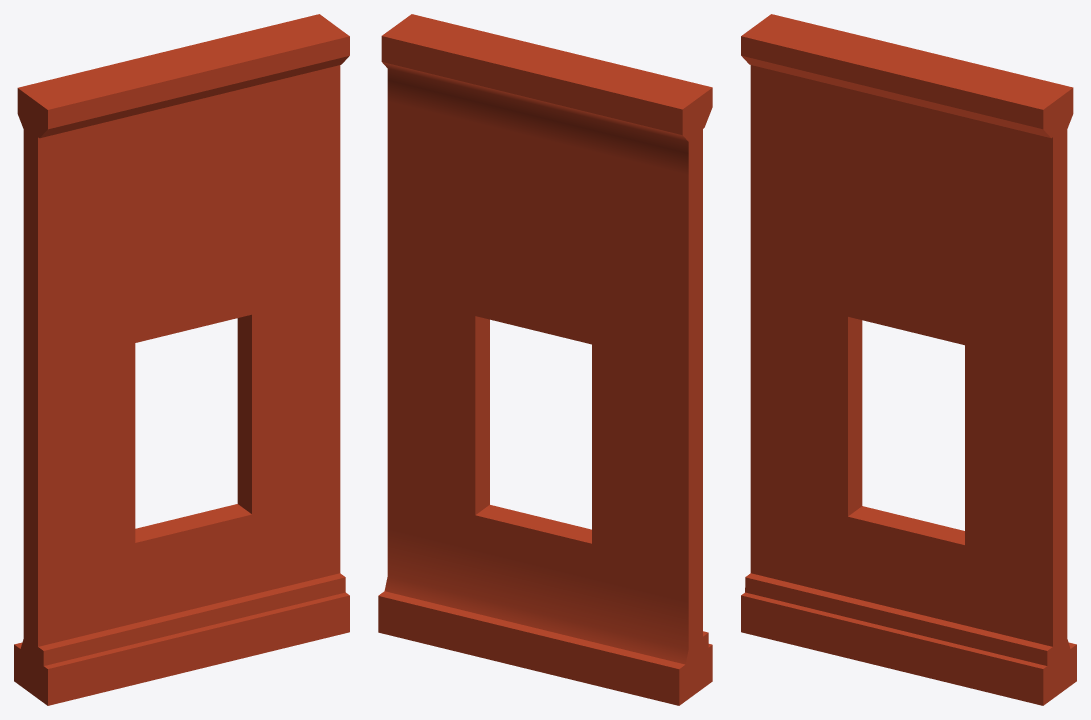
The model's file is TallWall-Window1.FBX.
3 renders of one model, left to right at view 1: azimuth 30°, elevation 25°; view 2: azimuth 150°, elevation 25°; view 3: azimuth 330°, elevation 25°, orthographic.
Parts seen in each view (by area): view 1: TallWall-Window1; view 2: TallWall-Window1; view 3: TallWall-Window1.
Boxes of the visible parts, bbox=[...] form: TallWall-Window1: bbox=[14, 14, 349, 705]; TallWall-Window1: bbox=[378, 14, 712, 705]; TallWall-Window1: bbox=[741, 14, 1076, 705].
Size of the model in its own units: 118 by 223 by 22.83.
